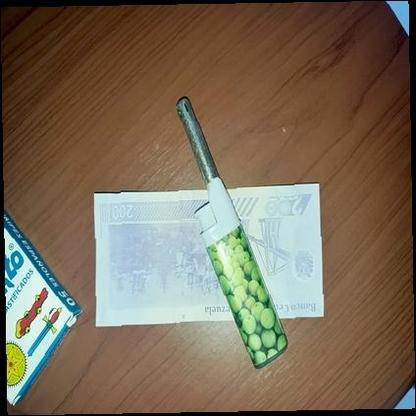two_hundred-back-vef: (94, 182, 326, 327)
